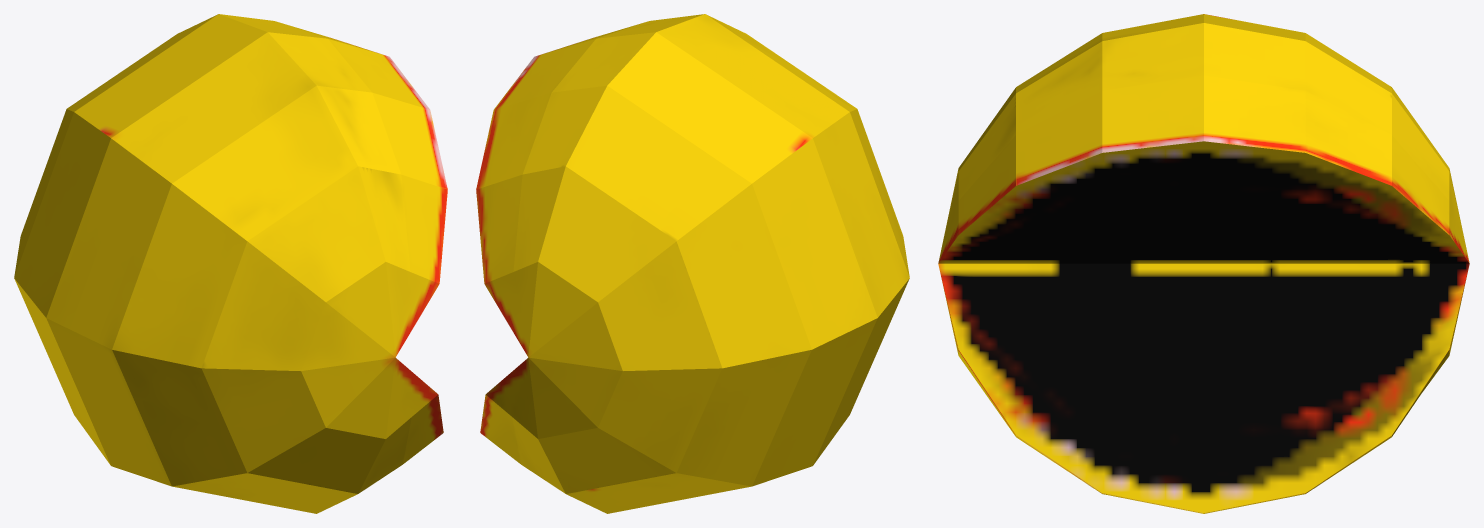
Rendered from pacman4.obj.
The picture shows the model from 3 angles, left to right: view 1: azimuth 30°, elevation 25°; view 2: azimuth 150°, elevation 25°; view 3: azimuth 270°, elevation 25°; orthographic projection. The views are drawn at different scales.
Visible parts, largest first — view 1: Sphere; view 2: Sphere; view 3: Sphere.
Part boxes in pixels (x1,y1,x2,y2): Sphere: (14, 14, 447, 513); Sphere: (476, 14, 909, 513); Sphere: (938, 14, 1469, 513).
Size of the model in its own units: 1.55 by 2 by 2.
